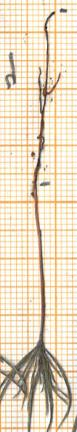flower: (0, 339, 77, 432)
root: (29, 8, 65, 187)
stem: (28, 184, 49, 340)
